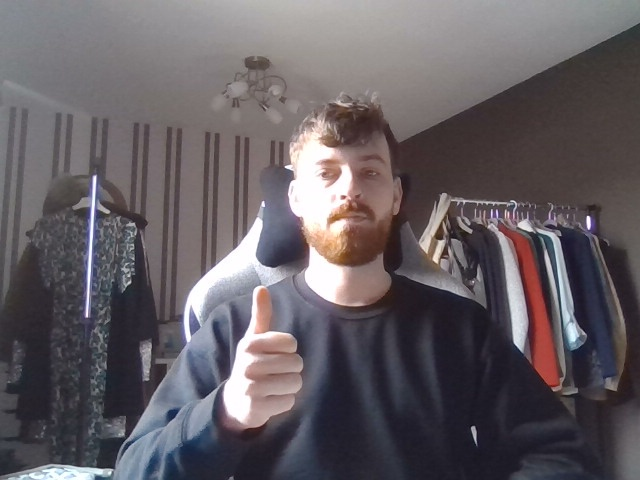Thumbs Up: (230, 284, 310, 441)
